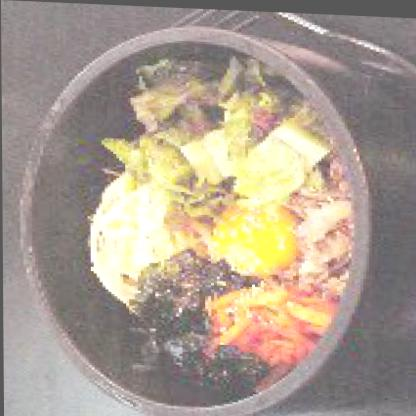bibimbap: (62, 38, 392, 401)
